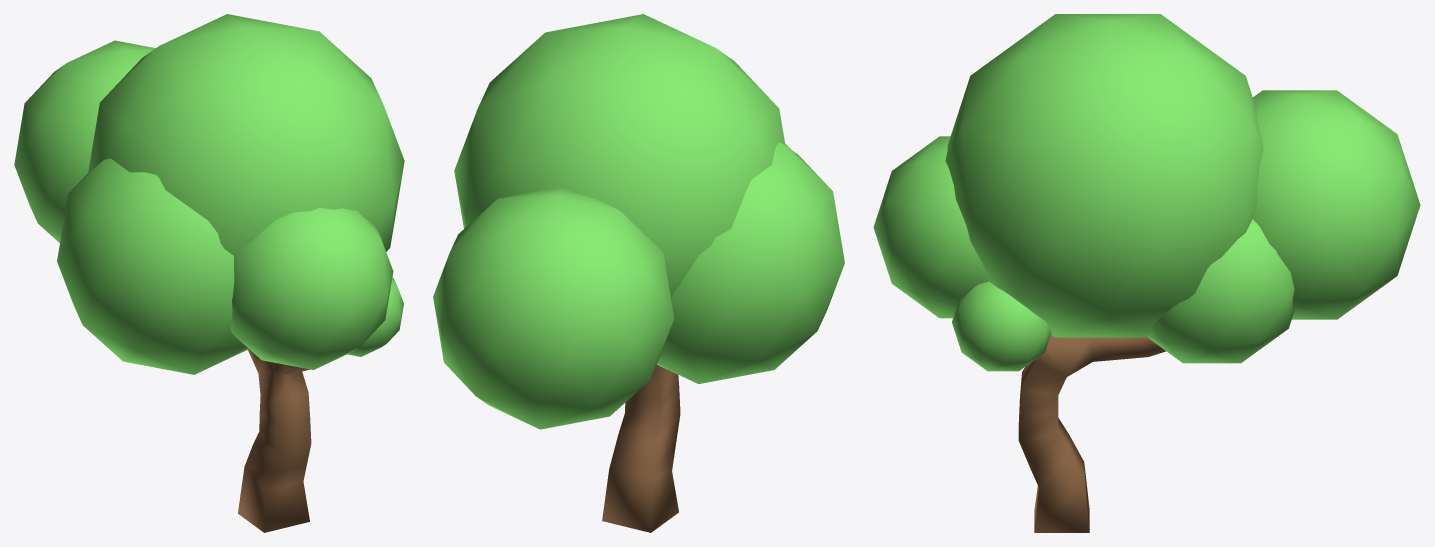
The model's file is Tree.fbx.
3 renders of one model, left to right at view 1: azimuth 30°, elevation 25°; view 2: azimuth 150°, elevation 25°; view 3: azimuth 270°, elevation 25°, orthographic. The views are drawn at different scales.
Parts seen in each view (by area): view 1: Icosphere.003_LOD0; view 2: Icosphere.003_LOD0; view 3: Icosphere.003_LOD0.
Part boxes in pixels (x1,y1,x2,y2): Icosphere.003_LOD0: [14, 14, 404, 532]; Icosphere.003_LOD0: [433, 14, 844, 532]; Icosphere.003_LOD0: [873, 14, 1420, 532].
Bounding box in the file's own units: 771 × 1123 × 1122.
